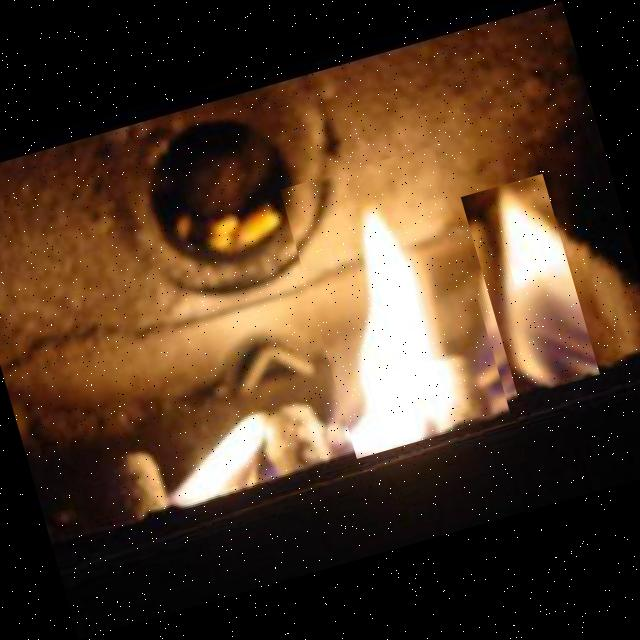fire: (280, 145, 510, 458), (460, 174, 600, 398)
